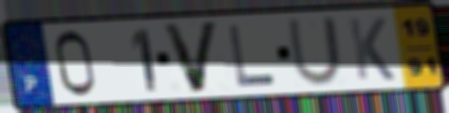0: (52, 28, 97, 99)
1: (129, 27, 160, 93)
K: (345, 16, 398, 83)
L: (225, 23, 279, 89)
U: (285, 15, 345, 88)
V: (159, 19, 223, 96)
